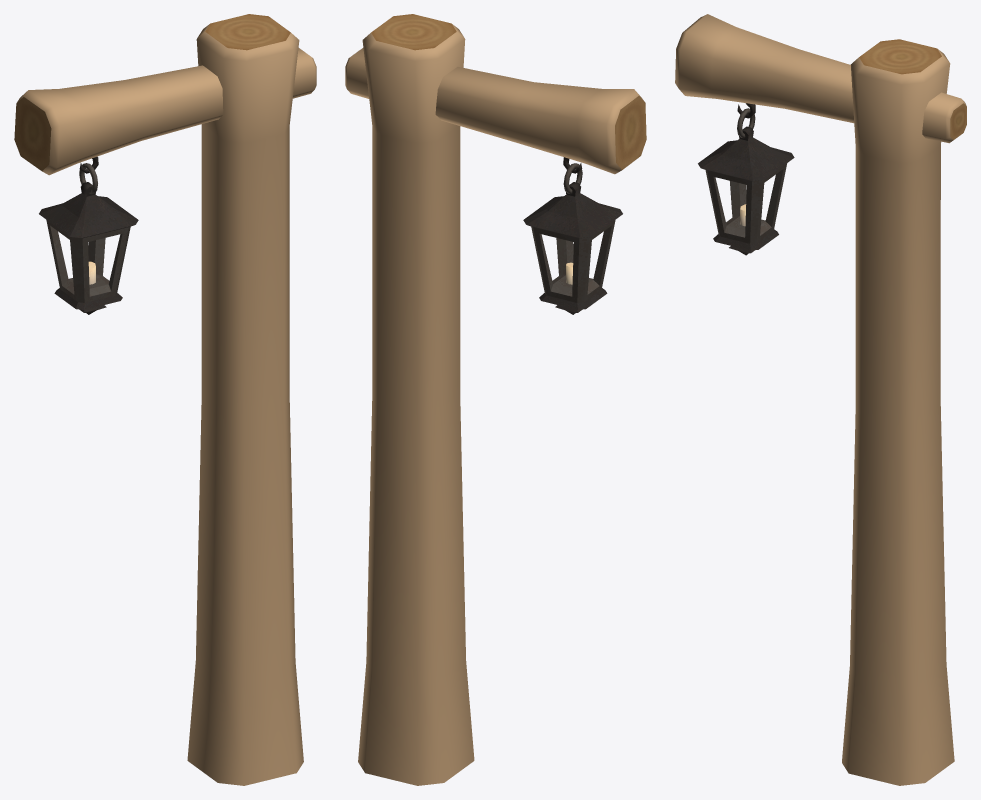
Rendered from Lamp_Post.fbx.
3 views of the same model, side by side, from view 1: azimuth 30°, elevation 25°; view 2: azimuth 150°, elevation 25°; view 3: azimuth 330°, elevation 25° (orthographic). The views are drawn at different scales.
Visible parts, largest first — view 1: Cube.086, Cube.087, Cube.085; view 2: Cube.086, Cube.087, Cube.085; view 3: Cube.086, Cube.087, Cube.085.
Boxes of the visible parts, x1,y1,x2,y2 form: Cube.086: (187, 14, 303, 785); Cube.087: (14, 48, 316, 175); Cube.085: (39, 182, 138, 314); Cube.086: (358, 14, 474, 785); Cube.087: (345, 48, 646, 174); Cube.085: (523, 182, 622, 314); Cube.086: (842, 39, 954, 785); Cube.087: (675, 14, 966, 143); Cube.085: (698, 126, 794, 255).
Bounding box in the file's own units: 89.61 × 224 × 27.78.
